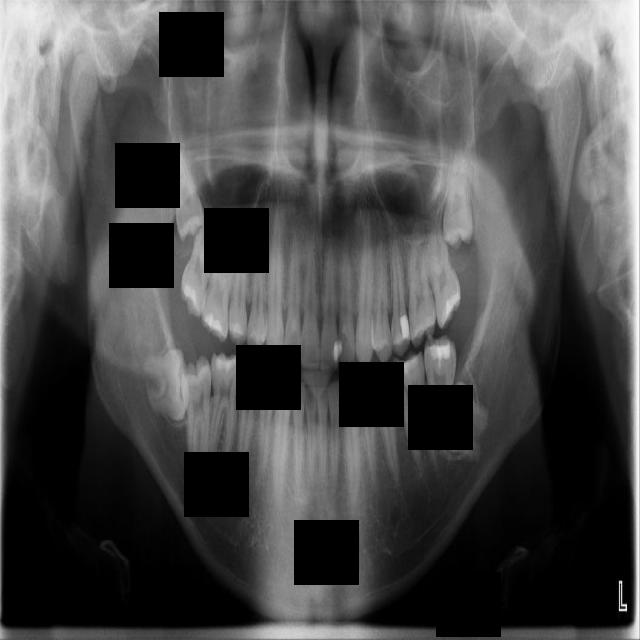3M ESPE Implant: (163, 129, 207, 243)
52: (423, 267, 473, 332), (386, 348, 432, 398), (177, 260, 212, 319), (201, 285, 229, 342), (210, 351, 242, 392), (424, 334, 456, 375), (389, 311, 411, 359), (320, 321, 339, 371), (227, 306, 248, 348), (338, 319, 355, 369)
73: (630, 618, 635, 626)
BioHorizons Implant: (418, 216, 468, 330)
BioLife Implant: (442, 128, 475, 249)
Biomet 3i Implant: (434, 379, 495, 463)
Blue Sky Bio Implant: (424, 334, 456, 446)
Caries: (177, 194, 223, 319)
Implant: (179, 355, 212, 476)
Keystone Dental Implant: (142, 347, 195, 423)
